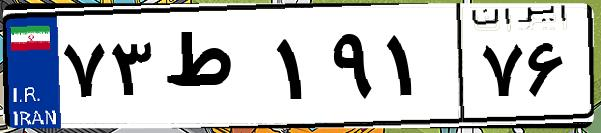1: (270, 28, 330, 110), (385, 28, 445, 110)
3: (110, 28, 158, 98)
6: (525, 38, 570, 115)
7: (57, 26, 110, 100), (475, 38, 525, 113)
9: (330, 28, 385, 110)
ط: (158, 20, 270, 120)
